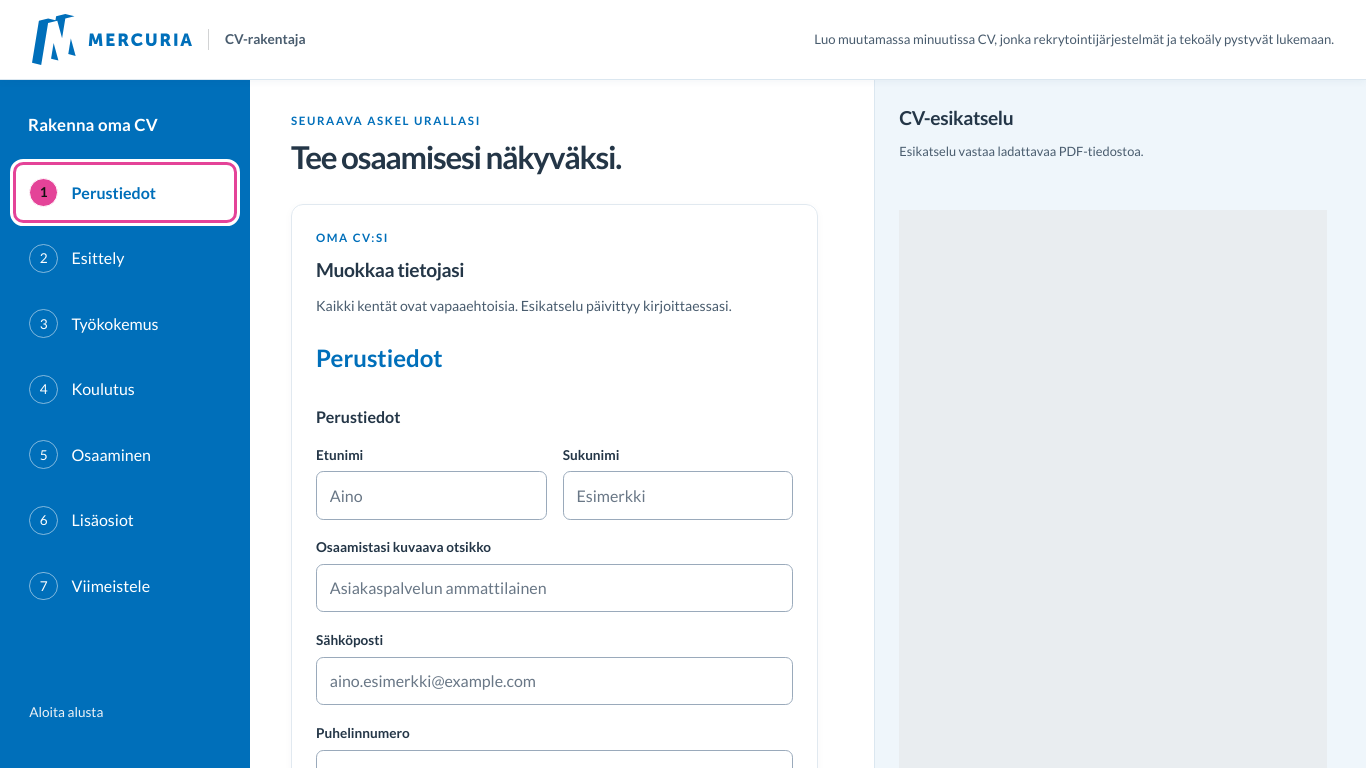
Test: aloittaa perustiedoista ja vaihtaa kaikkia vaiheita valikon painikkeilla
Earlier steps of the test are not shown.
Check: the heading with id "active-step-heading" reads "Perustiedot", box [316,343,443,372]
Click the button "2 Esittely": click(125, 258) [16,231,234,286]
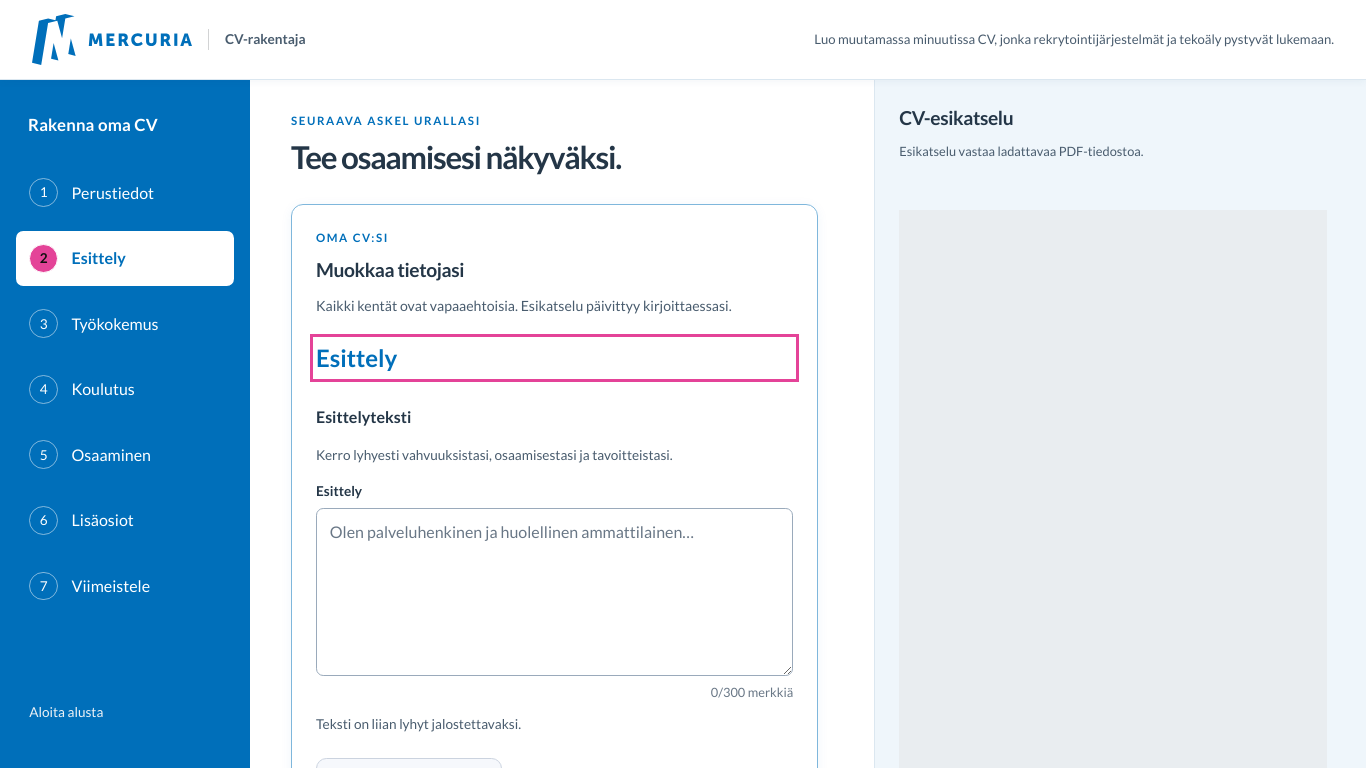
Check: the heading with id "active-step-heading" reads "Esittely", box [316,343,398,372]
Click the button "3 Työkokemus": click(125, 324) [16,296,234,351]
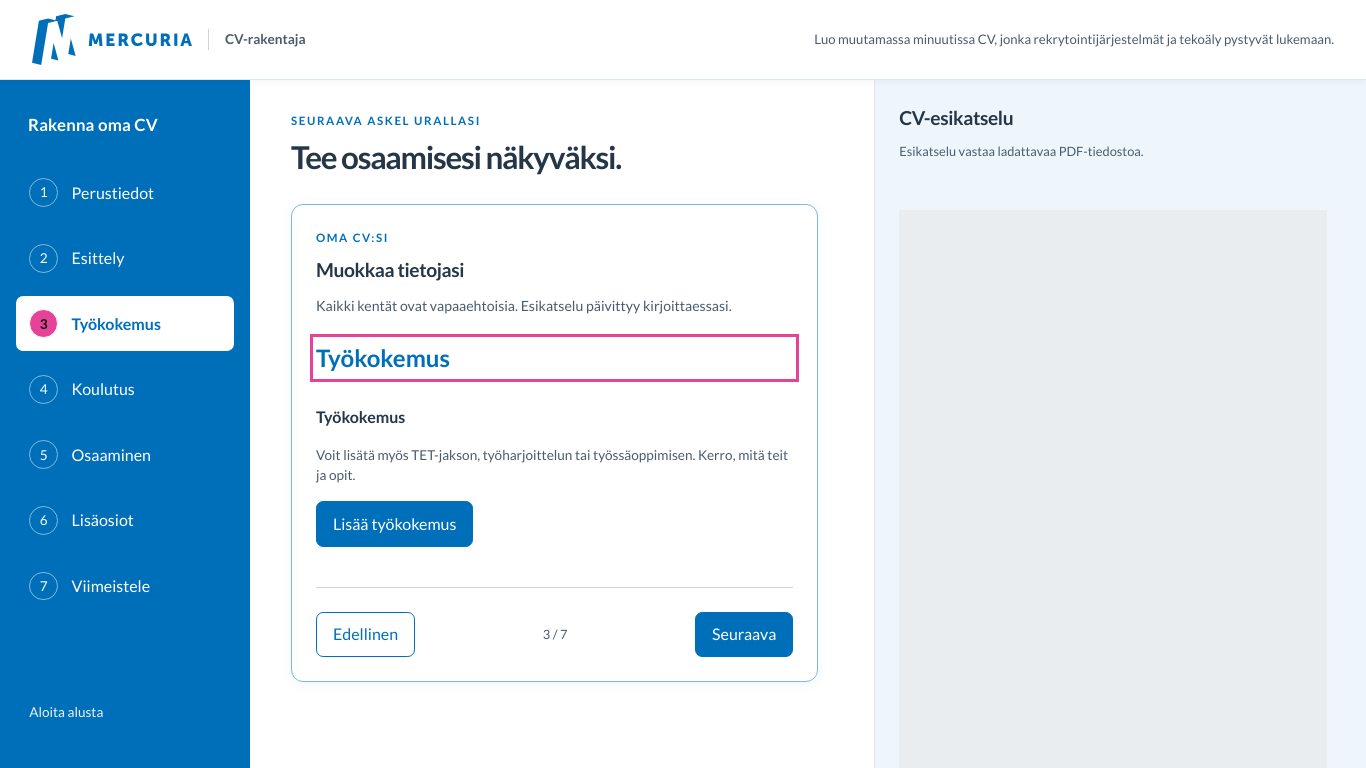
Check: the heading with id "active-step-heading" reads "Työkokemus", box [316,343,450,372]
Click the button "4 Koulutus": click(125, 389) [16,362,234,417]
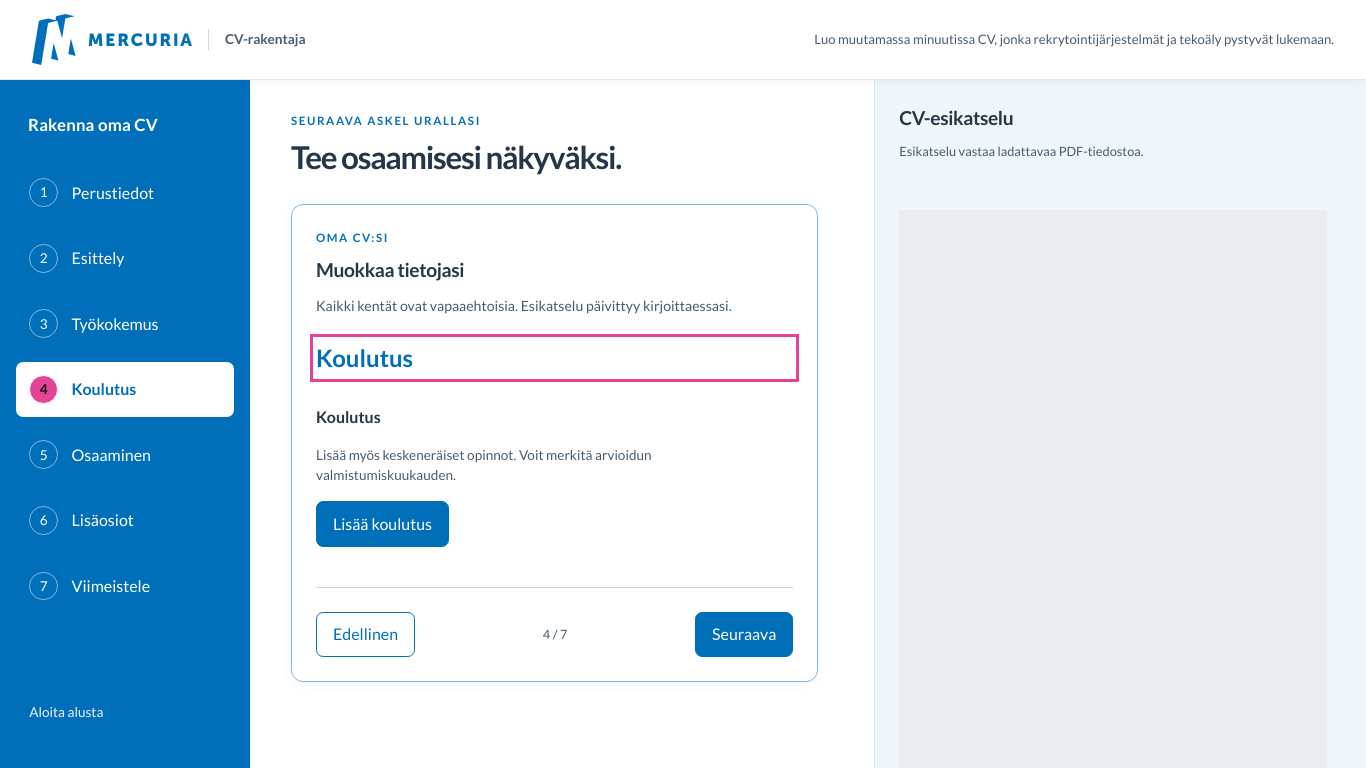
Check: the heading with id "active-step-heading" reads "Koulutus", box [316,343,413,372]
Click the button "5 Osaaminen": click(125, 455) [16,427,234,482]
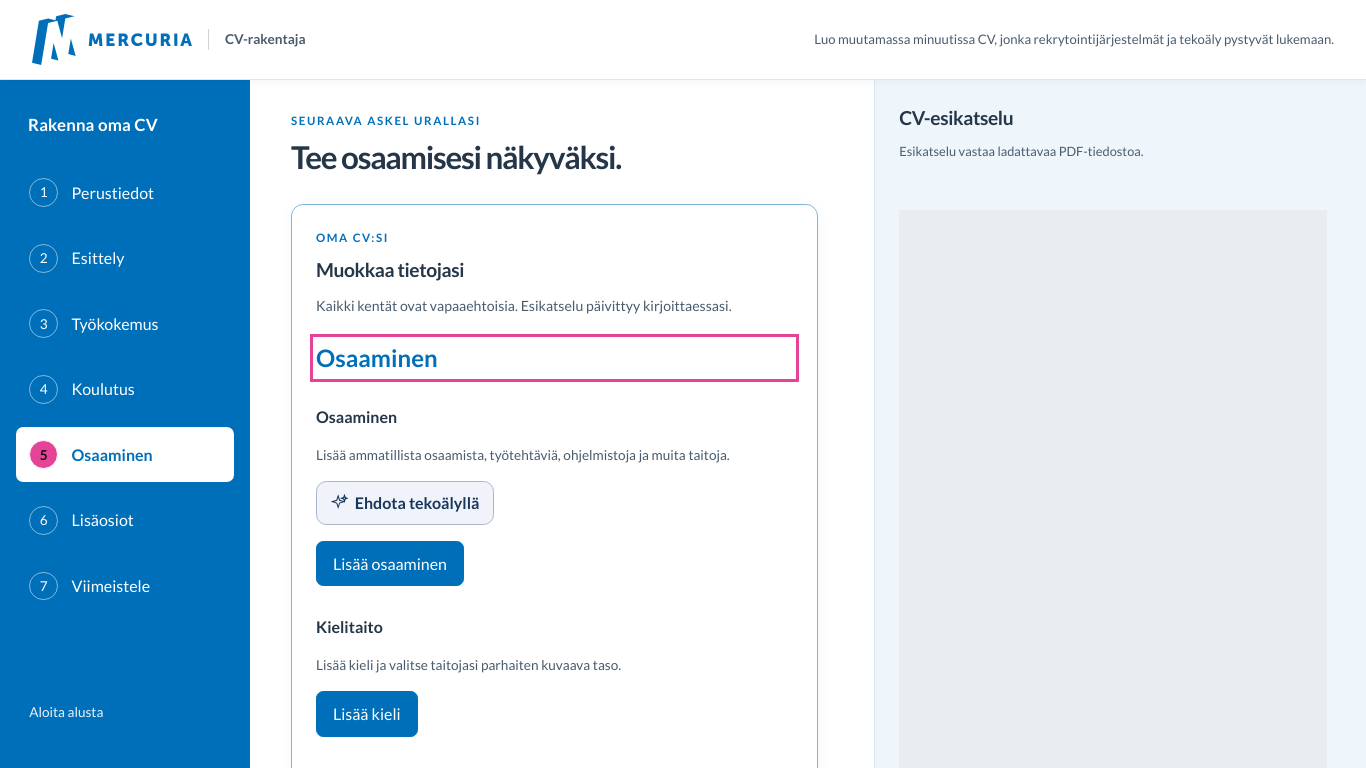
Check: the heading with id "active-step-heading" reads "Osaaminen", box [316,343,438,372]
Click the button "6 Lisäosiot": click(125, 520) [16,493,234,548]
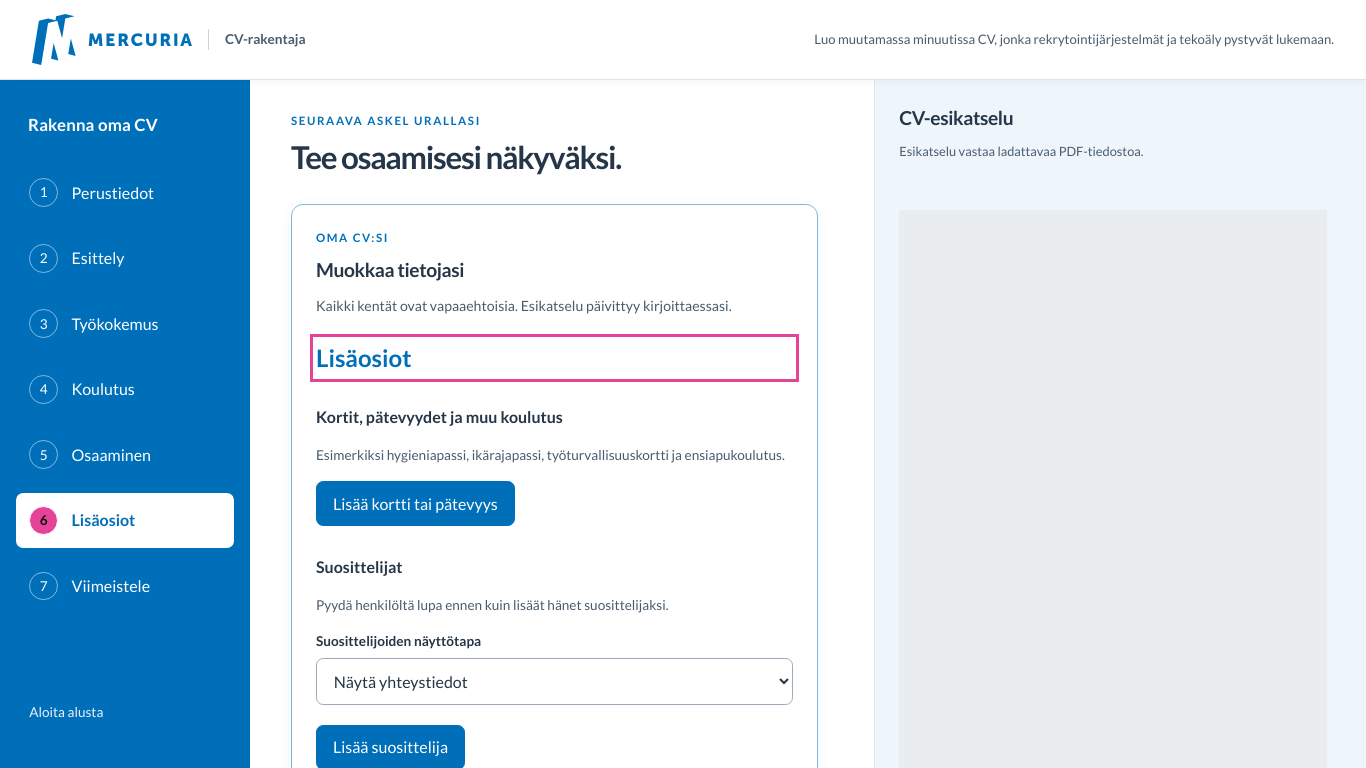
Check: the heading with id "active-step-heading" reads "Lisäosiot", box [316,343,412,372]
Click the button "7 Viimeistele": click(125, 586) [16,558,234,614]
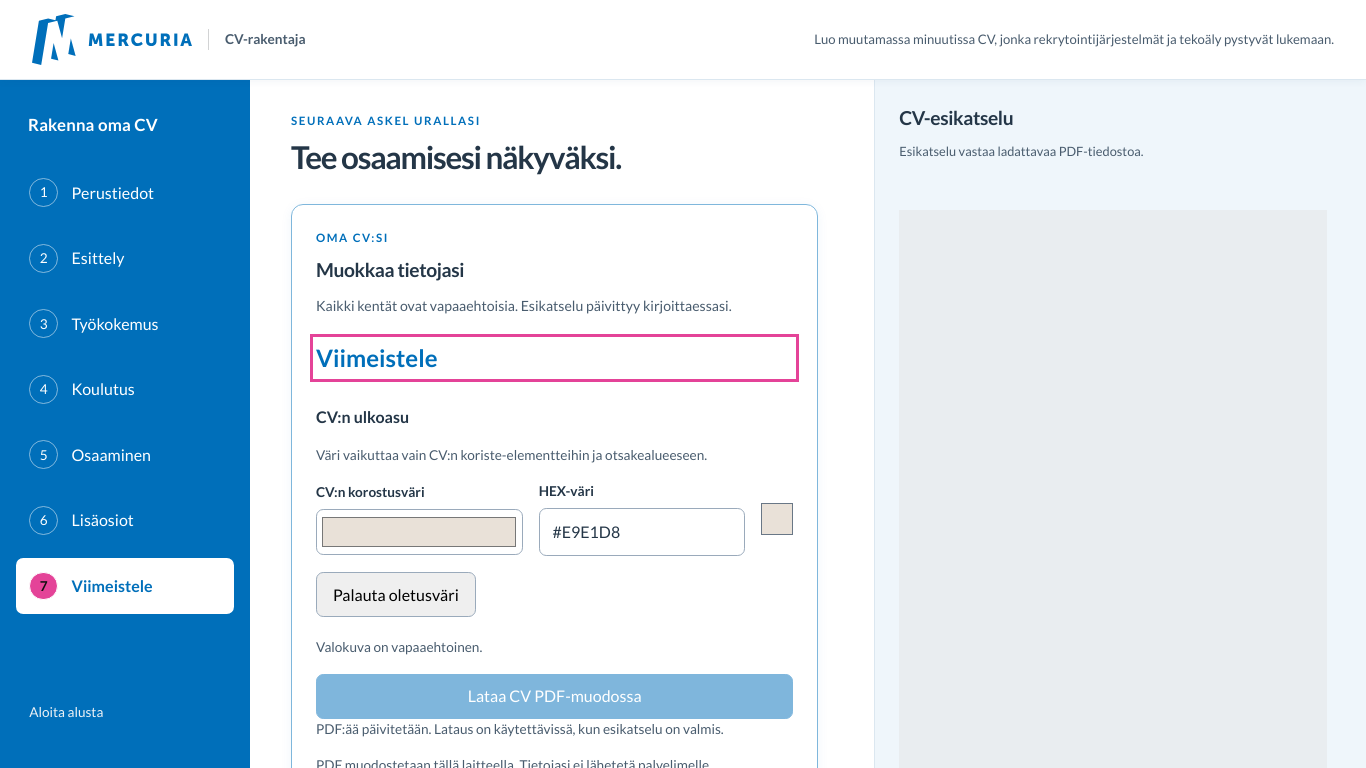
Check: the heading with id "active-step-heading" reads "Viimeistele", box [316,343,438,372]
Check: the button "Lataa CV PDF-muodossa" is shown, box [316,674,793,719]
